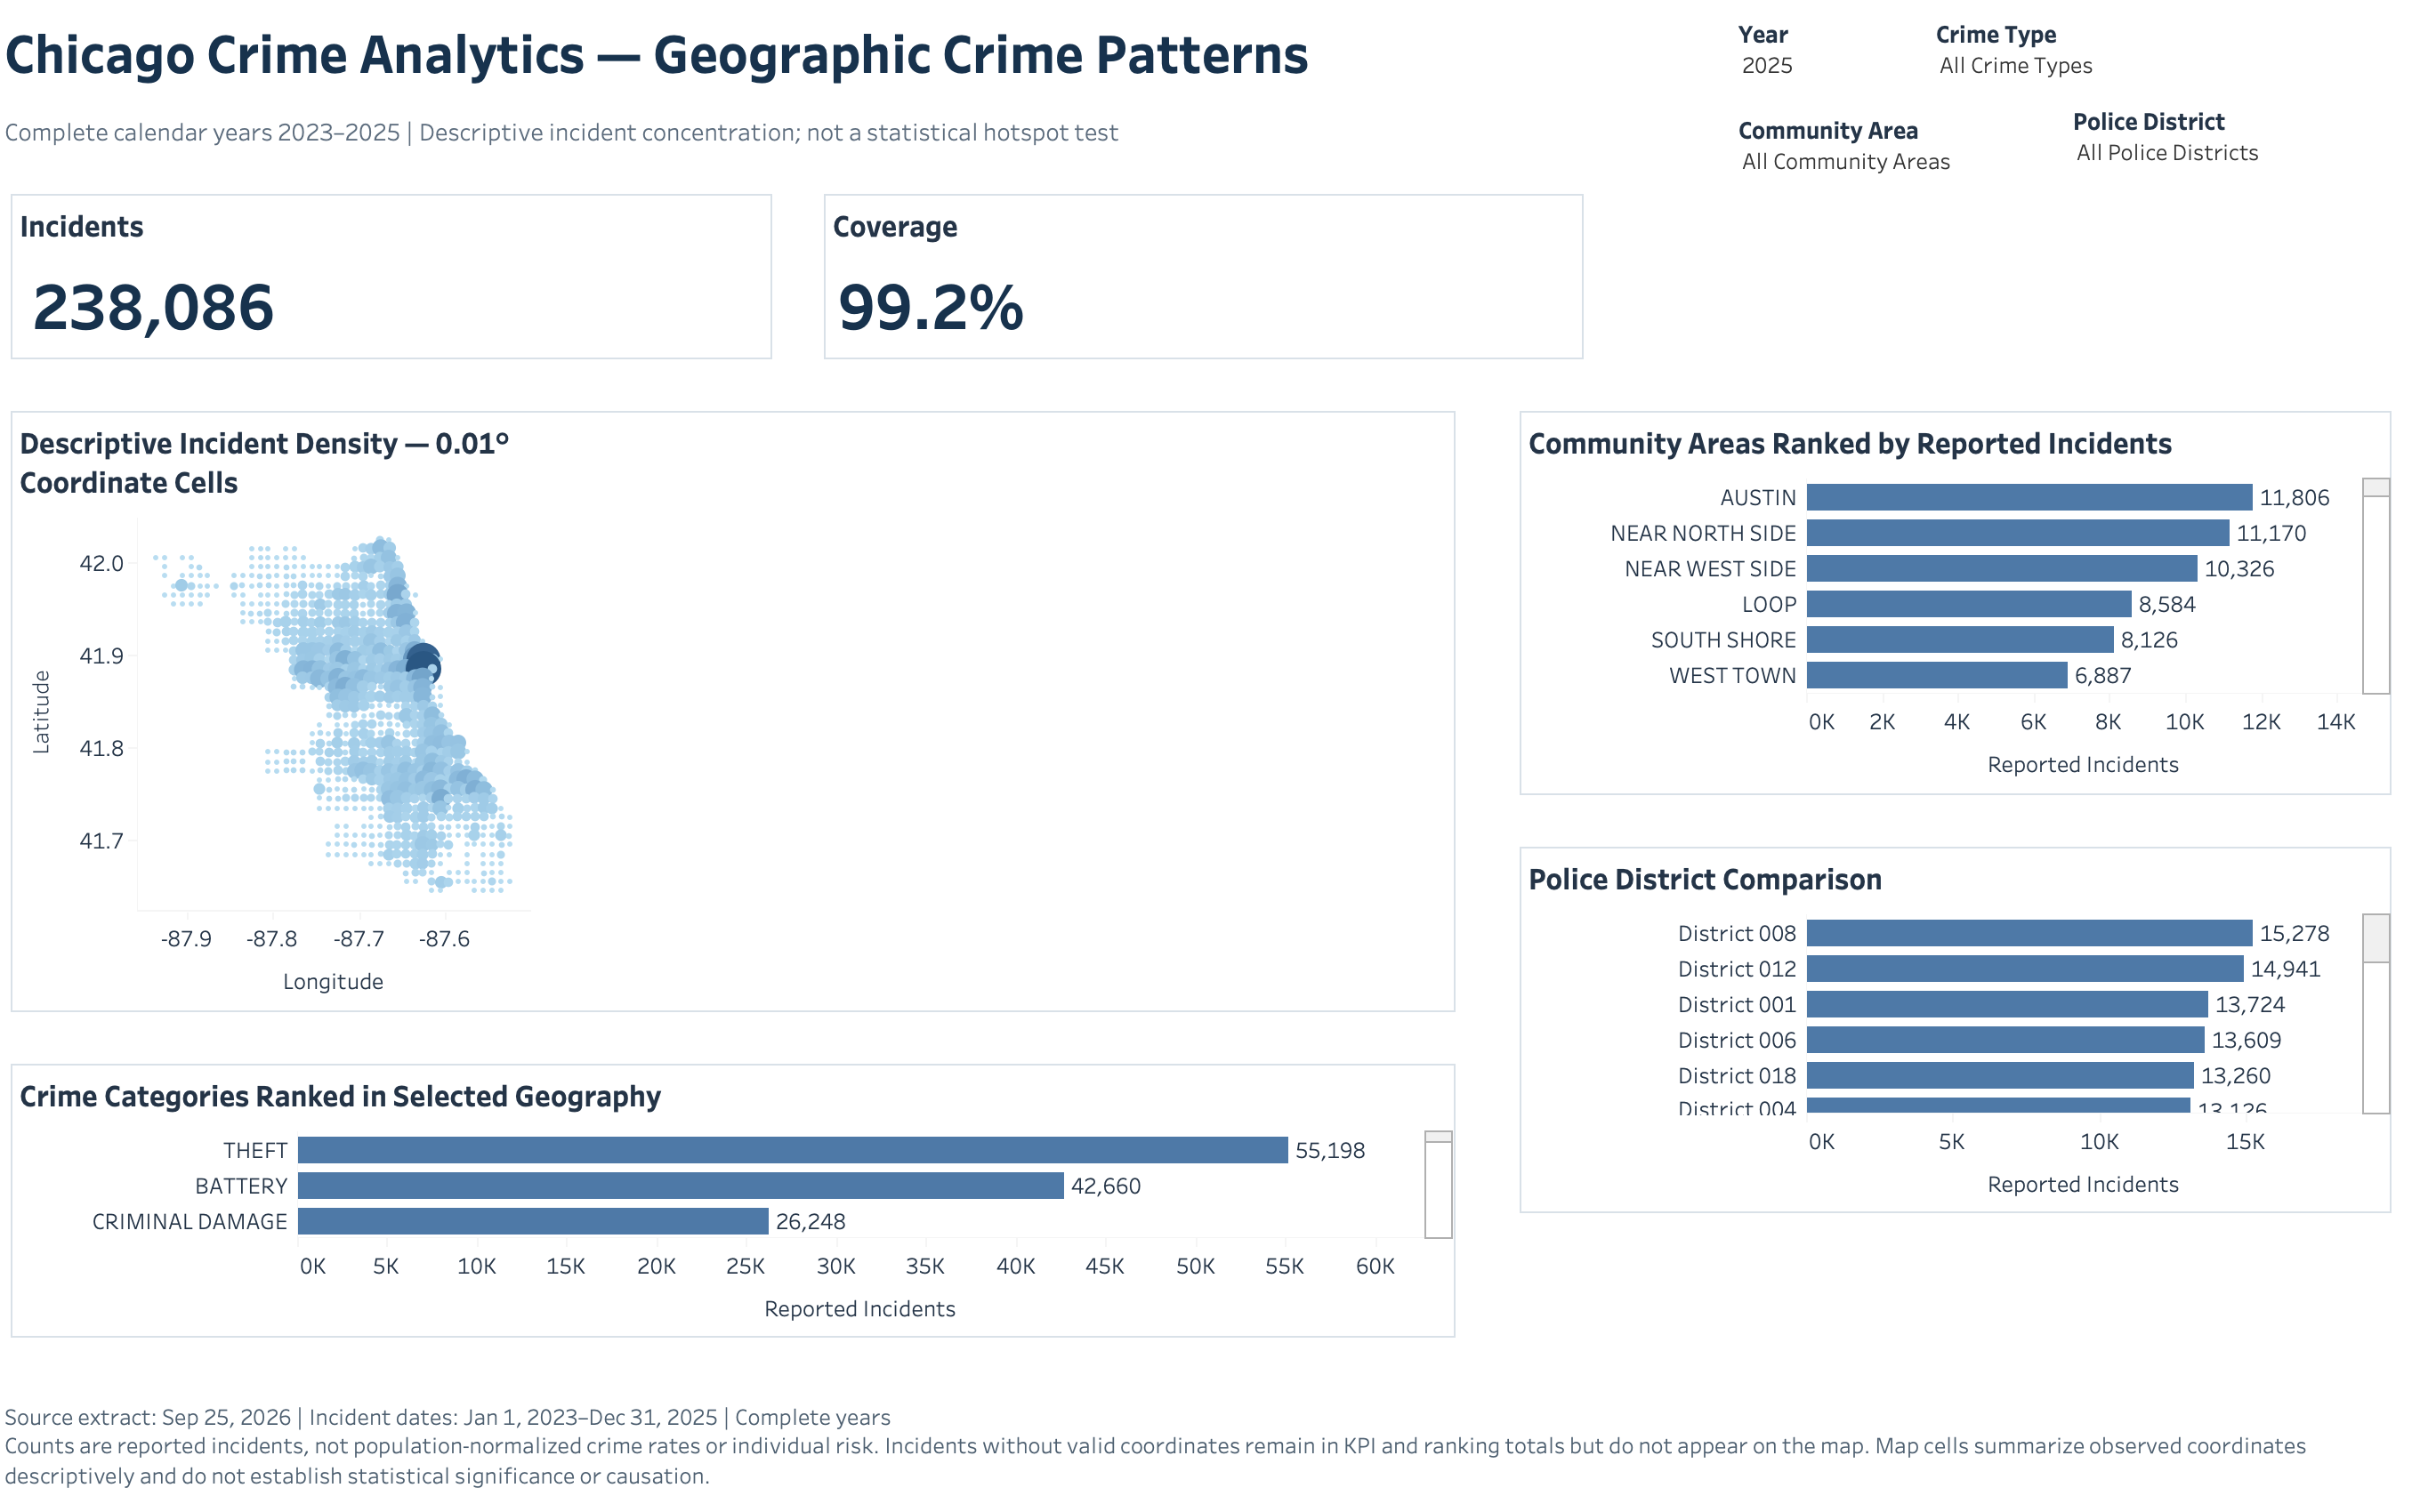

The page's visual inventory and layout, read from the dashboard file:
{"tool":"tableau","page":{"name":"Geographic Crime Patterns","canvas":[1360,850],"ordinal":1},"visuals":[{"type":"title","box":[24.5,10.2,952,61.2]},{"type":"parameter","param":"[Parameters].[pSelectedYear]","box":[965.6,18.7,115.6,44.2]},{"type":"parameter","param":"[Parameters].[pCrimeType]","box":[1083.9,18.7,142.8,44.2]},{"type":"text","box":[24.5,66.3,952,30.6]},{"type":"parameter","param":"[Parameters].[pCommunityArea]","box":[965.6,66.3,190.4,44.2]},{"type":"parameter","param":"[Parameters].[pDistrict]","box":[1158.7,66.3,190.4,44.2]},{"type":"worksheet","title":"Geographic Selected Incidents","mark":"Text","box":[24.5,110.5,428.4,102]},{"type":"worksheet","title":"Geographic Coverage Percentage","mark":"Text","box":[469.2,110.5,428.4,102]},{"type":"worksheet","title":"Chicago Geographic Crime Map","mark":"Circle","rows":["cell_latitude"],"cols":["cell_longitude"],"box":[24.5,229.5,802.4,340]},{"type":"worksheet","title":"Community Area Ranking","mark":"Bar","rows":["community_area_name"],"cols":["reported_incident_count"],"box":[850,229.5,489.6,221]},{"type":"worksheet","title":"District Comparison","mark":"Bar","rows":["district_label"],"cols":["reported_incident_count"],"box":[850,467.5,489.6,212.5]},{"type":"worksheet","title":"Geographic Crime Category Analysis","mark":"Bar","rows":["primary_type"],"cols":["reported_incident_count"],"box":[24.5,586.5,802.4,161.5]},{"type":"text","box":[24.5,765,1316.5,72.2]}]}

Visuals, with their boxes in screenshot pixels (x1, y1, x2, y2), scaled from the page's 1360x850 canvas onto the 2420x1512 screenshot:
title: l=44, t=18, r=1738, b=127
parameter: l=1718, t=33, r=1924, b=112
parameter: l=1929, t=33, r=2182, b=112
text: l=44, t=118, r=1738, b=173
parameter: l=1718, t=118, r=2057, b=197
parameter: l=2061, t=118, r=2400, b=197
"Geographic Selected Incidents" worksheet (Text marks): l=44, t=197, r=806, b=378
"Geographic Coverage Percentage" worksheet (Text marks): l=835, t=197, r=1597, b=378
"Chicago Geographic Crime Map" worksheet (Circle marks): l=44, t=408, r=1472, b=1013
"Community Area Ranking" worksheet (Bar marks): l=1512, t=408, r=2384, b=801
"District Comparison" worksheet (Bar marks): l=1512, t=832, r=2384, b=1210
"Geographic Crime Category Analysis" worksheet (Bar marks): l=44, t=1043, r=1472, b=1331
text: l=44, t=1361, r=2386, b=1489
